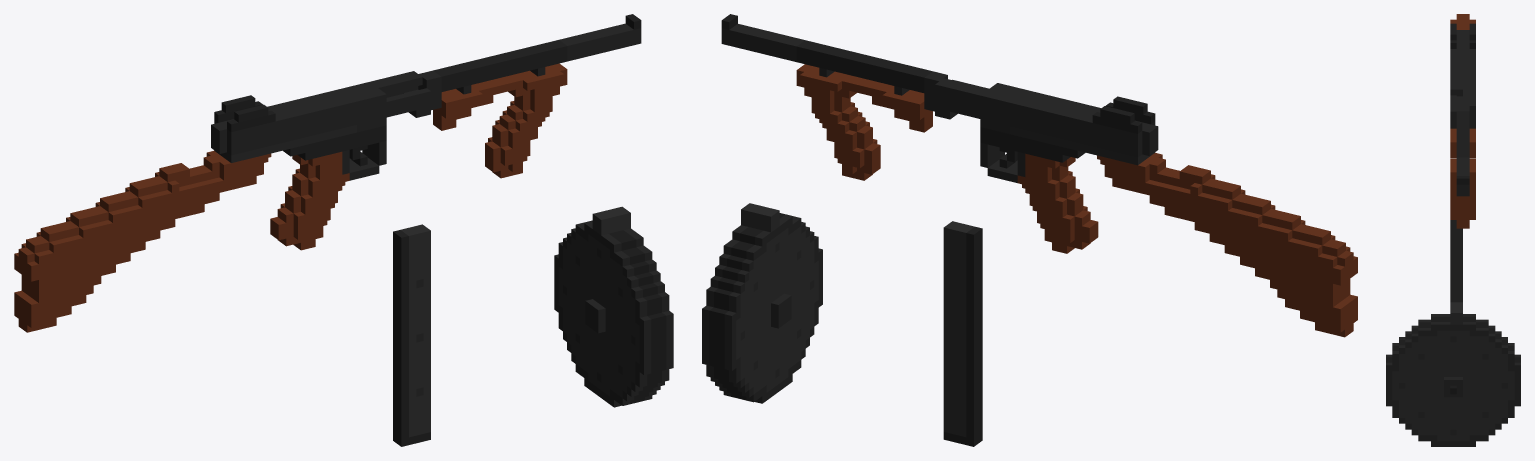
Rendered from Thompson_SMG.obj.
3 views of the same model, side by side, from view 1: azimuth 30°, elevation 25°; view 2: azimuth 150°, elevation 25°; view 3: azimuth 270°, elevation 25° (orthographic). The views are drawn at different scales.
Size of the model in its own units: 8.3 by 4.8 by 2.1.
1 material, 1 textured.
